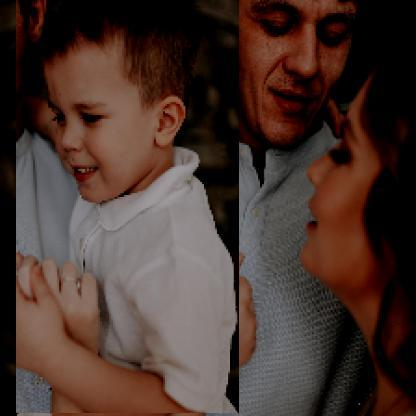child: (17, 1, 241, 415)
